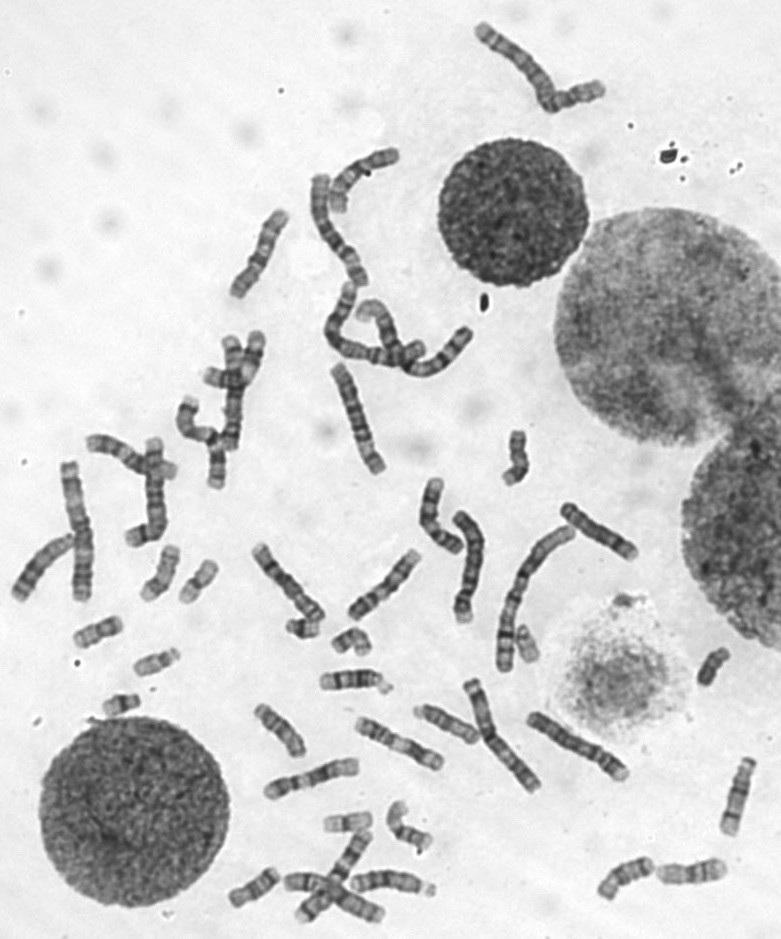chromosomes: (467, 10, 612, 127), (489, 518, 589, 678), (352, 291, 480, 386), (519, 708, 647, 794), (461, 670, 546, 799), (289, 820, 384, 929), (320, 279, 429, 373), (325, 357, 396, 482), (303, 172, 374, 291), (279, 865, 392, 931), (227, 203, 296, 310), (322, 142, 417, 218), (341, 545, 430, 626), (246, 536, 329, 622), (558, 491, 647, 568), (171, 393, 238, 494), (60, 457, 104, 610), (352, 711, 452, 776), (258, 751, 369, 806), (709, 744, 769, 844), (412, 461, 473, 559), (82, 429, 186, 486), (4, 528, 79, 607), (122, 430, 168, 558), (201, 321, 278, 395), (648, 851, 743, 908), (445, 504, 486, 631), (250, 694, 314, 769), (215, 329, 253, 453), (349, 867, 450, 912), (382, 791, 444, 858), (411, 697, 484, 752), (598, 843, 659, 906), (219, 860, 287, 915), (136, 539, 186, 613), (686, 632, 740, 693), (316, 665, 404, 701), (499, 419, 540, 493), (64, 610, 125, 658), (174, 555, 229, 607), (124, 643, 187, 686), (94, 683, 149, 728), (316, 803, 377, 842), (511, 618, 547, 668), (328, 628, 384, 658), (279, 613, 327, 647)
